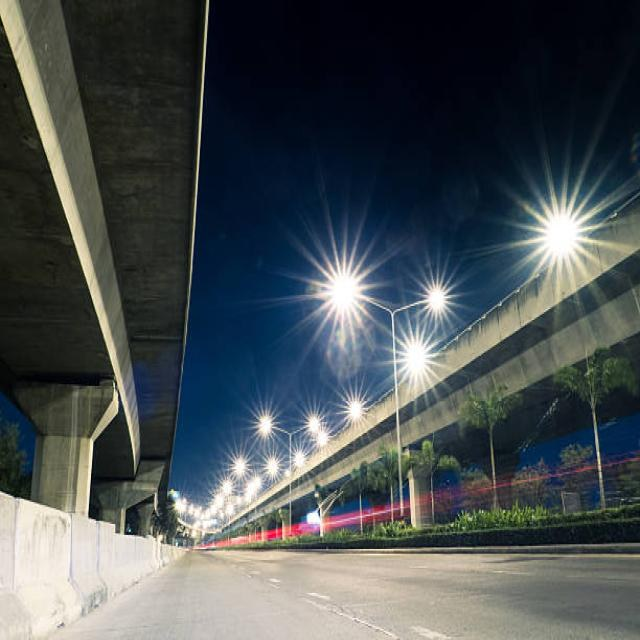acesa: (511, 188, 606, 274), (308, 242, 370, 334), (401, 330, 441, 396), (423, 267, 457, 321), (340, 389, 370, 427), (249, 401, 276, 440)
